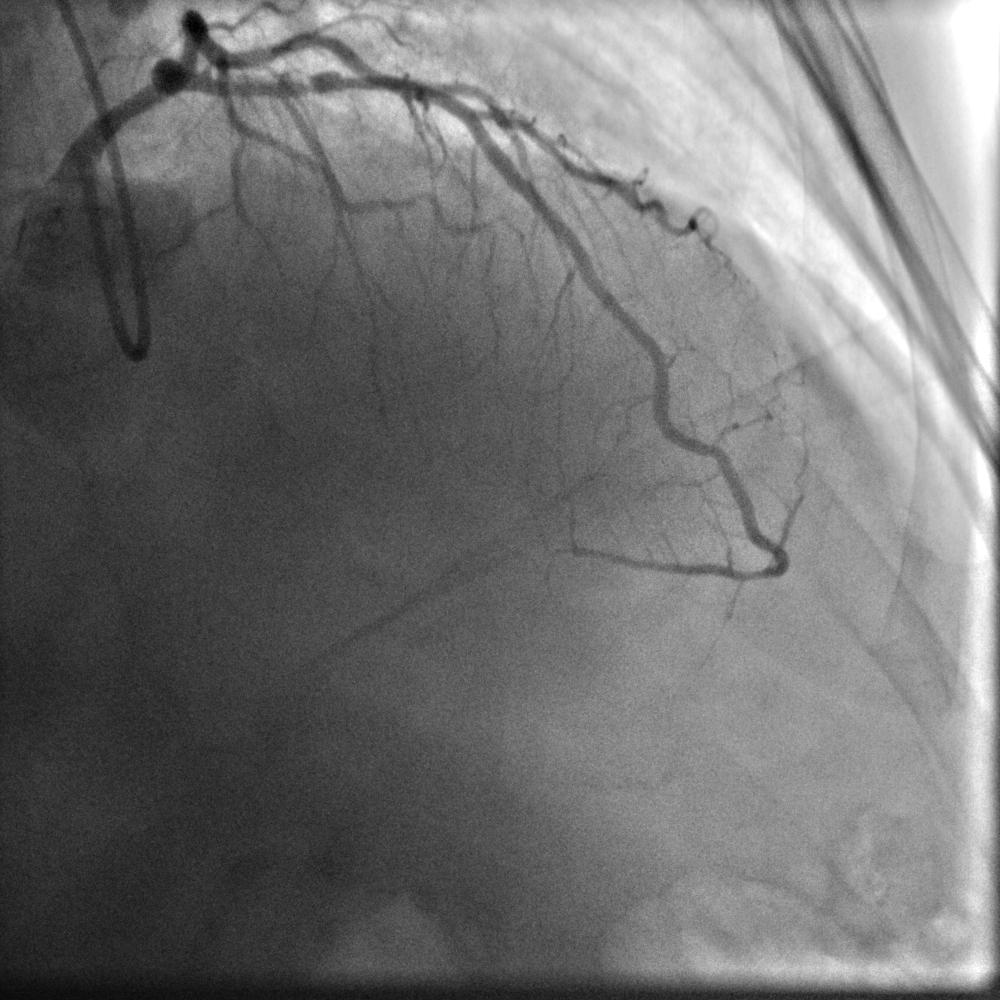Stenosis: (295, 75, 318, 93)
